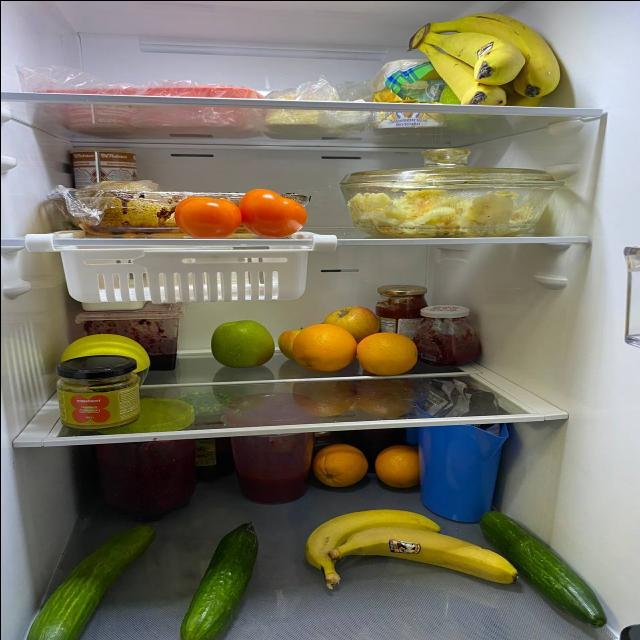Apple: (208, 319, 278, 372), (428, 73, 499, 125), (321, 301, 379, 337), (276, 319, 318, 364)
Banana: (406, 15, 562, 115), (330, 527, 540, 597), (306, 504, 438, 584)
Cucumber: (23, 508, 157, 640), (480, 508, 624, 629), (178, 518, 260, 637)
Orange: (291, 319, 357, 374), (306, 439, 368, 490), (360, 331, 418, 375), (377, 444, 422, 486)
Tomato: (234, 182, 306, 240), (160, 192, 246, 234)
